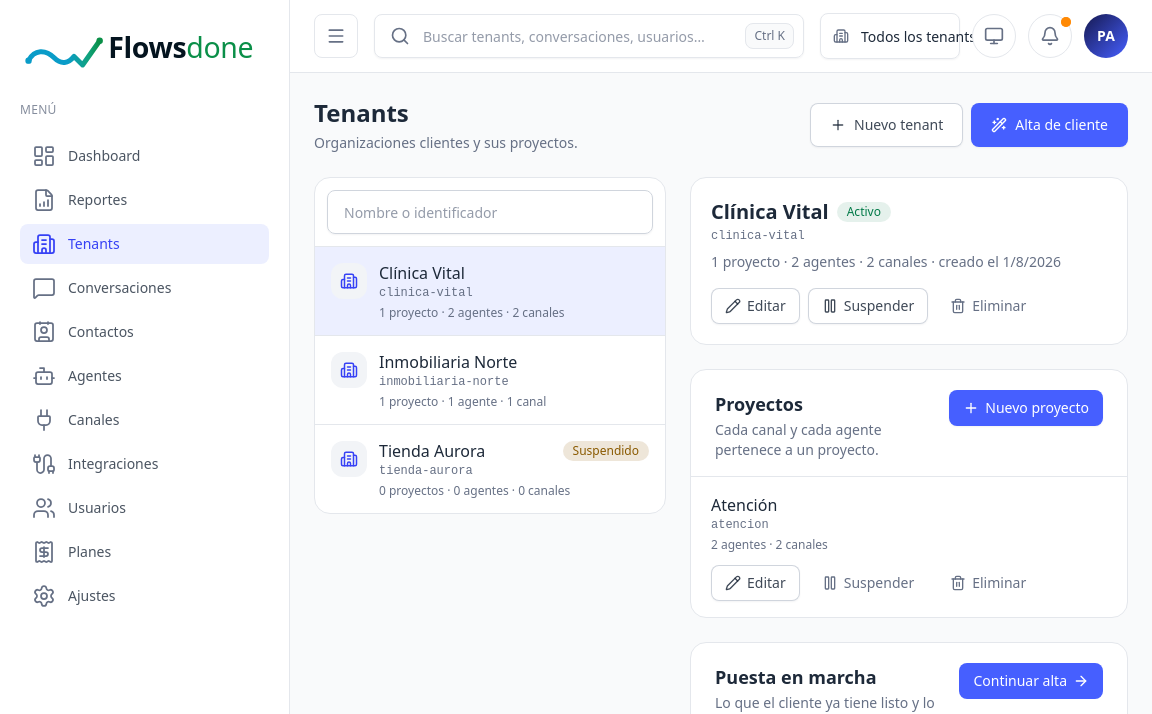
Test: gestión de tenants (admin) › borrar exige escribir el slug, avisa de la cascada y elimina todo lo que colgaba
Expected: the heading "Tenants" is shown, [314, 96, 409, 129]
Expected: the list named "Tenants" is shown, [315, 247, 665, 513]
Click the button with aria-label "Eliminar Clínica Vital" at (988, 306), box [936, 288, 1040, 324]
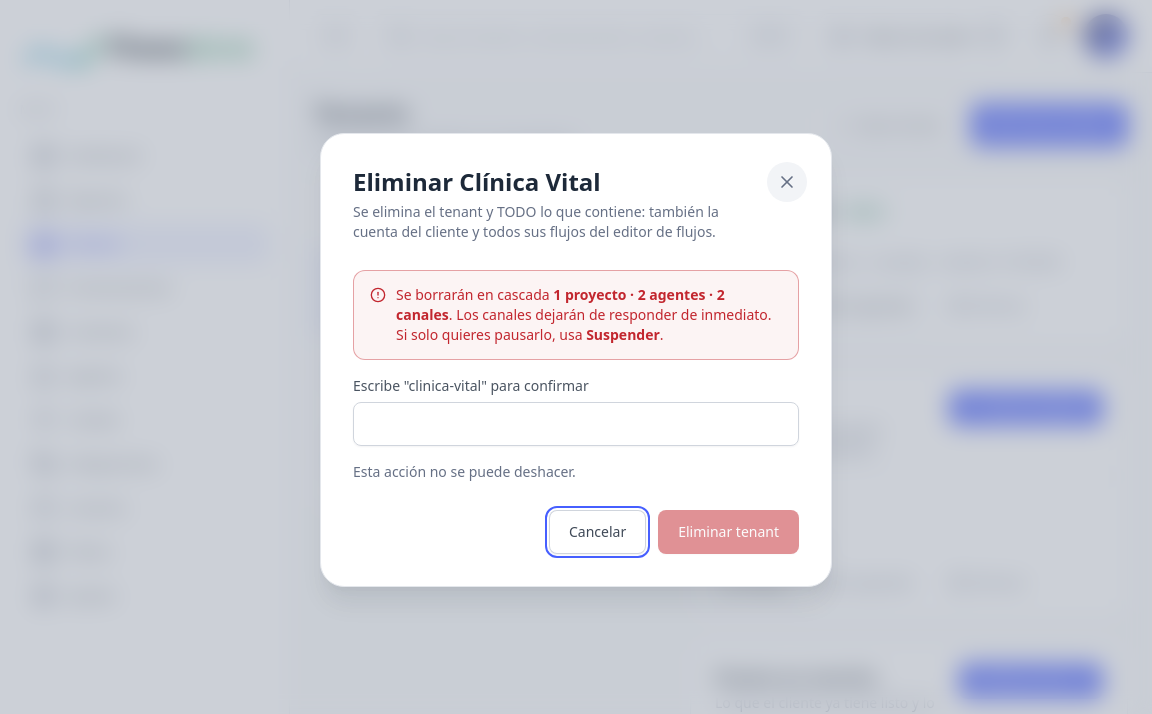
Now the text "1 proyecto · 2 agentes · 2 canales" is shown, box [396, 285, 725, 324]
Now the button "Eliminar tenant" is disabled, box [658, 510, 799, 554]
Type "clinica" into the field labelled "Escribe \"clinica-vital\" para confirmar" at (576, 424), box [353, 402, 799, 446]
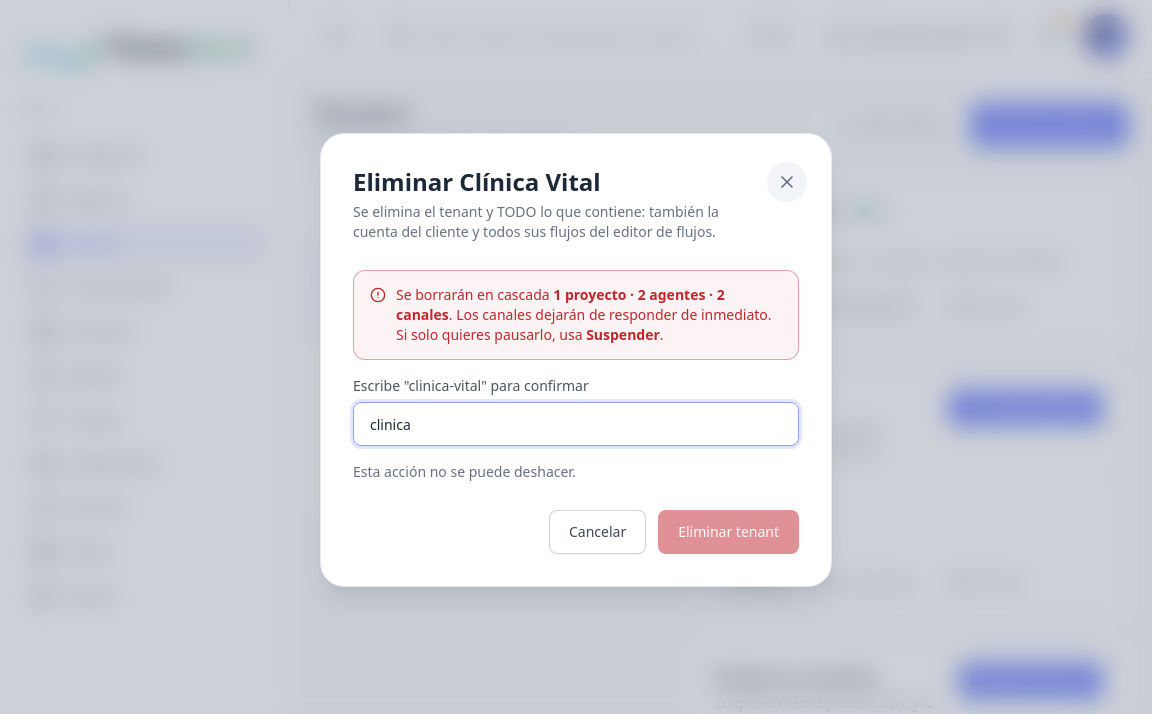
Now the button "Eliminar tenant" is disabled, box [658, 510, 799, 554]
Type "-vital" into the field labelled "Escribe \"clinica-vital\" para confirmar" at (576, 424), box [353, 402, 799, 446]
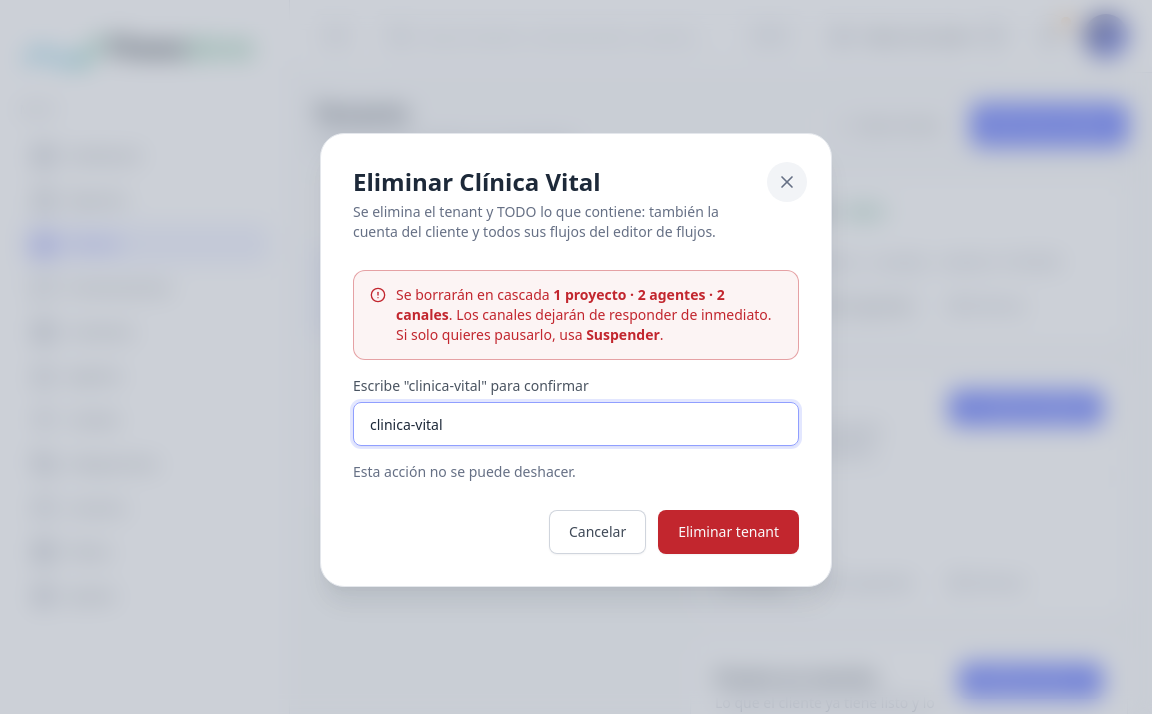
Now the button "Eliminar tenant" is enabled
Click the button "Eliminar tenant" at (729, 532), box [658, 510, 799, 554]
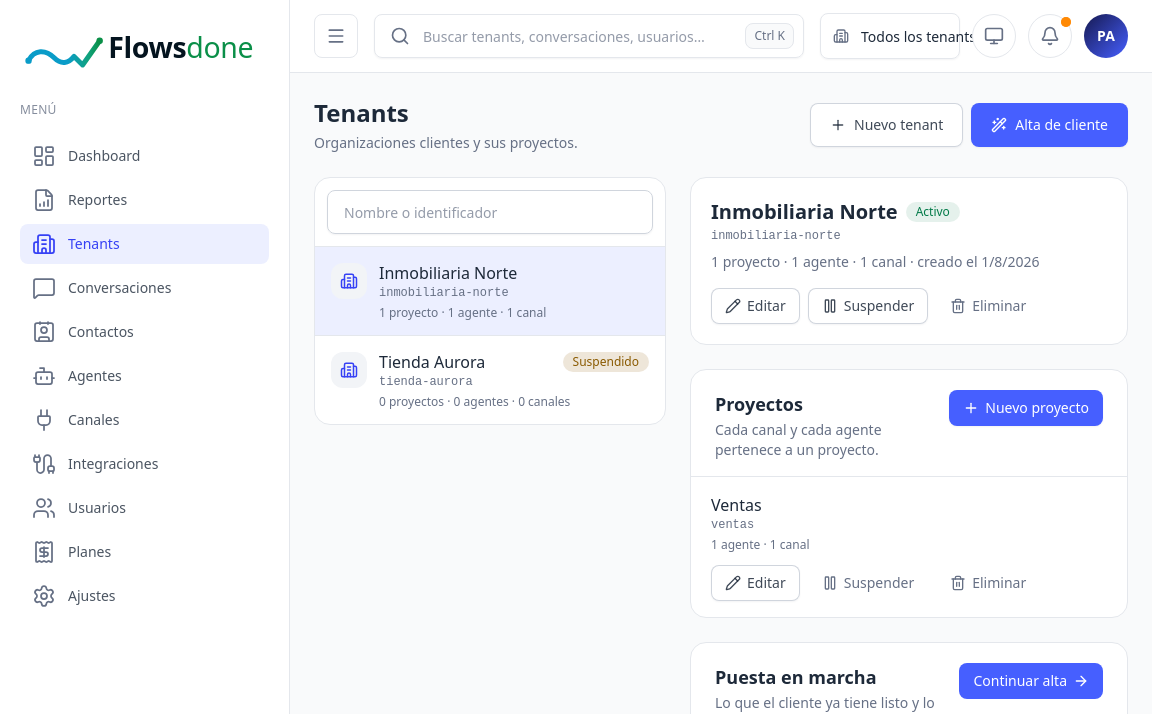
Now the dialog is gone
Now the button "Clínica Vital" is gone
